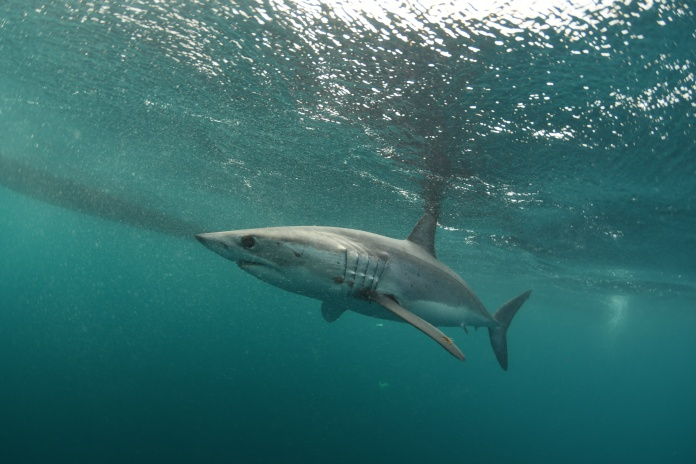Mako: (183, 202, 541, 384)
